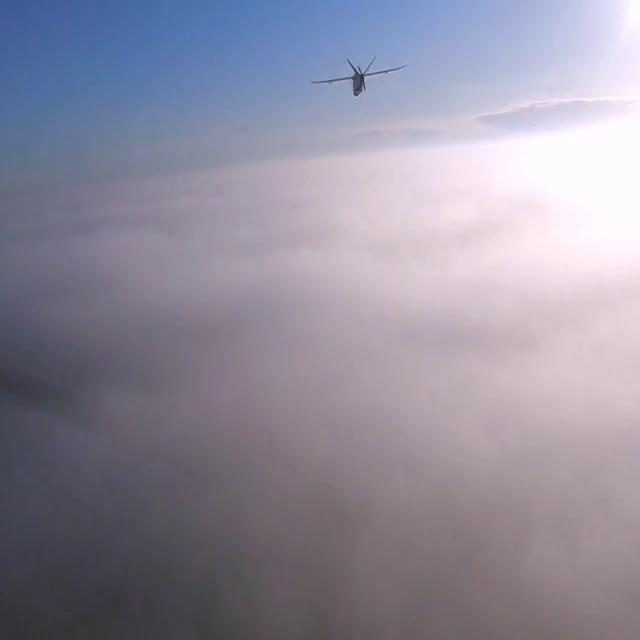iha: (342, 0, 374, 36)
